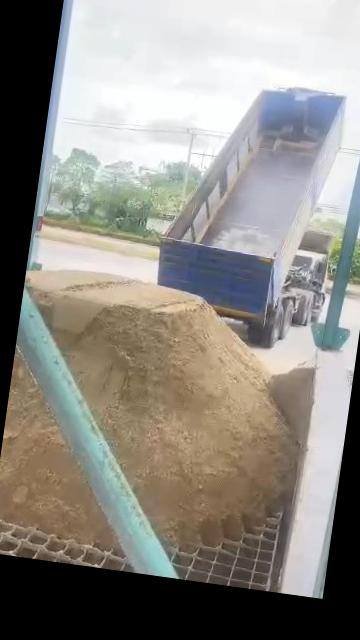sand: (27, 271, 296, 545), (0, 355, 113, 546), (268, 363, 315, 444)
